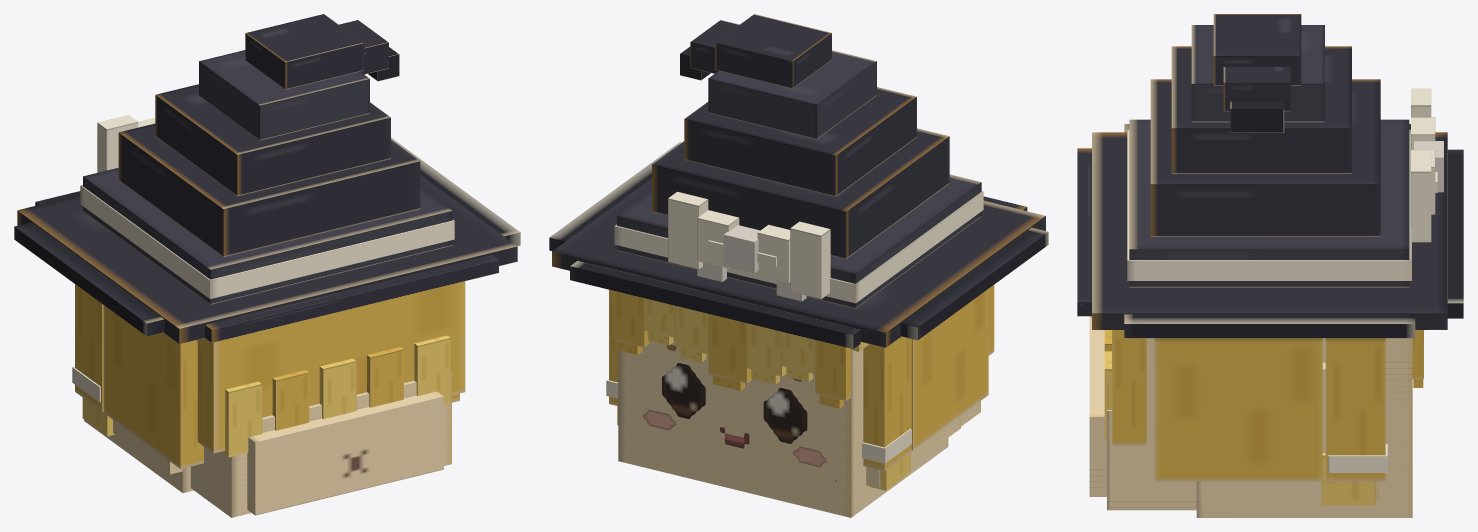
The model's file is scratch_marisa_0.obj.
The picture shows the model from 3 angles, left to right: view 1: azimuth 30°, elevation 25°; view 2: azimuth 150°, elevation 25°; view 3: azimuth 270°, elevation 25°; orthographic projection. The views are drawn at different scales.
Parts seen in each view (by area): view 1: scratch_marisa_0; view 2: scratch_marisa_0; view 3: scratch_marisa_0.
Part boxes in pixels (bbox=[...]): scratch_marisa_0: bbox=[14, 14, 520, 517]; scratch_marisa_0: bbox=[549, 14, 1048, 517]; scratch_marisa_0: bbox=[1077, 14, 1463, 517].
Size of the model in its own units: 19 by 19.34 by 15.53.
Materials: 1 (1 with a texture image).
